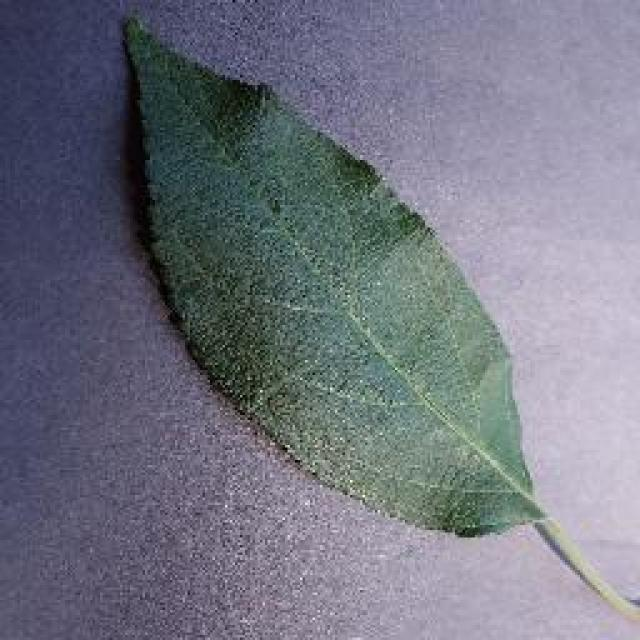apple healthy: (115, 5, 637, 633)
